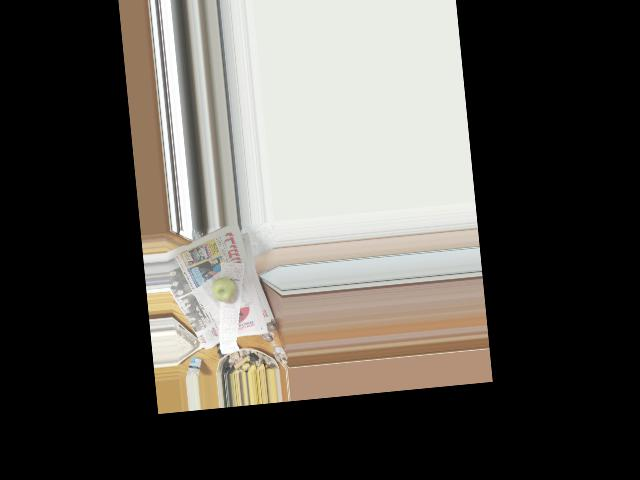apple: (208, 272, 237, 304)
